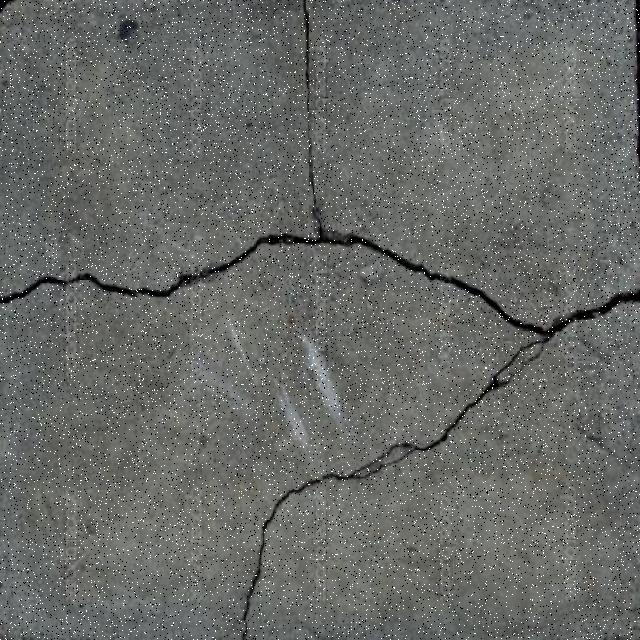Crack: (207, 214, 640, 640), (0, 275, 192, 306), (303, 0, 315, 212)
